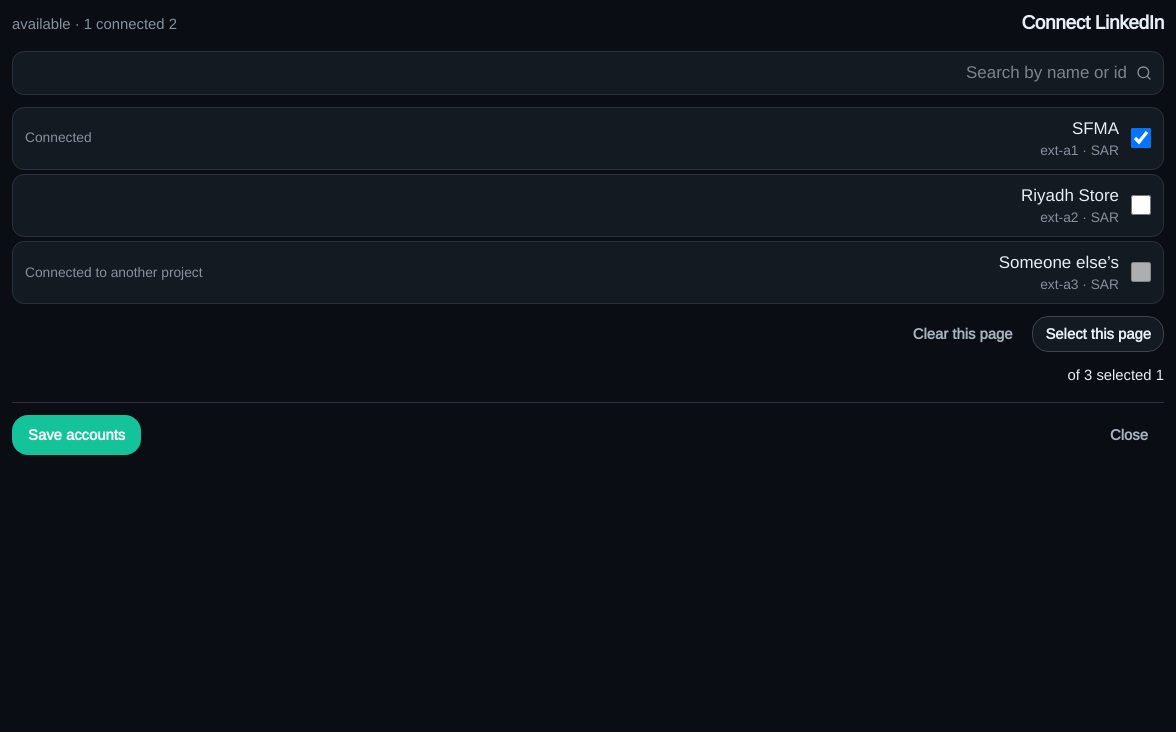
Test: managing the accounts of a connected source › shows the field-level detail the server sent, not only the generic sentence
What coordinates should you click on to do the following:
click the button with test id "wizard-save-selection"
I would click on:
 (77, 435)
Its box is [12,415,141,455].
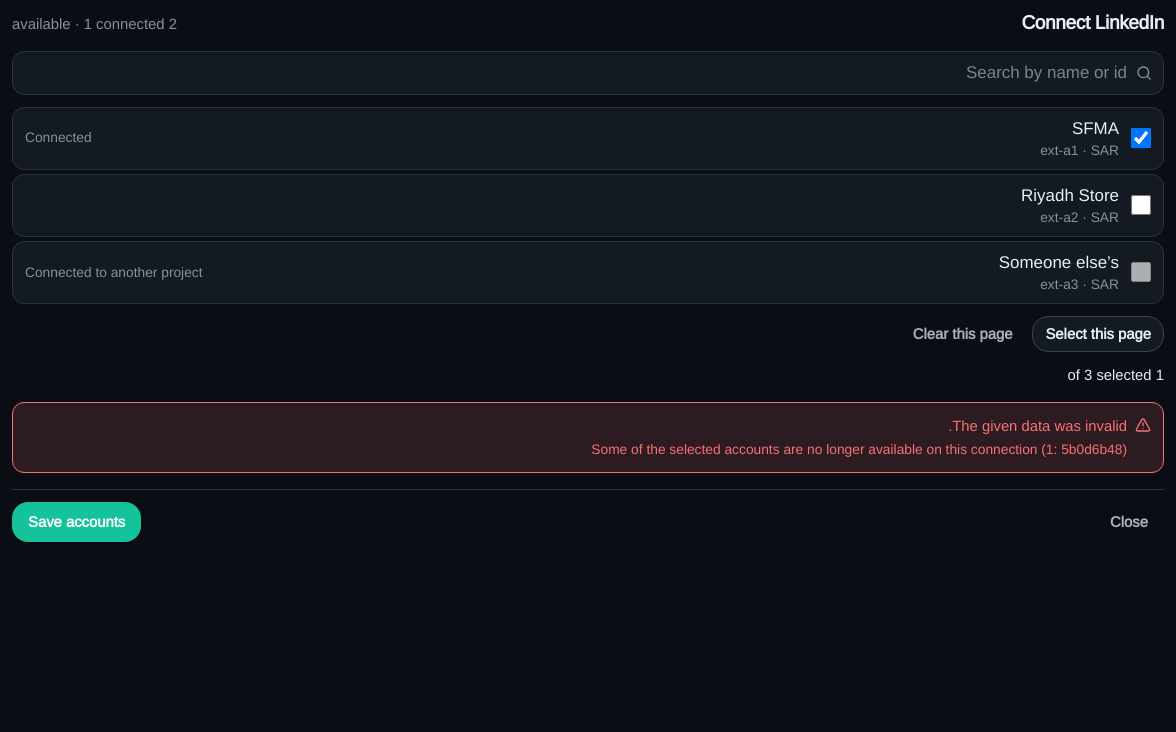
Expected: the text with test id "wizard-save-error-detail" shows "no longer available on this connection", [591,441,1127,457]
